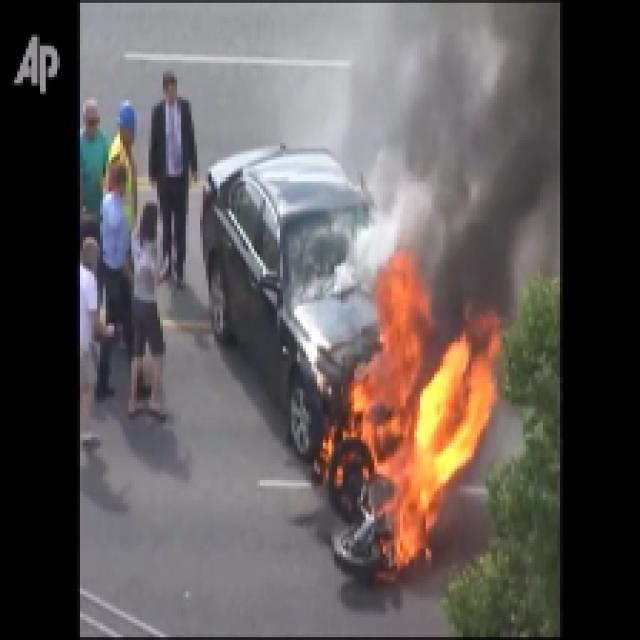Fire: (308, 184, 504, 586)
Smoke: (356, 10, 556, 202)
